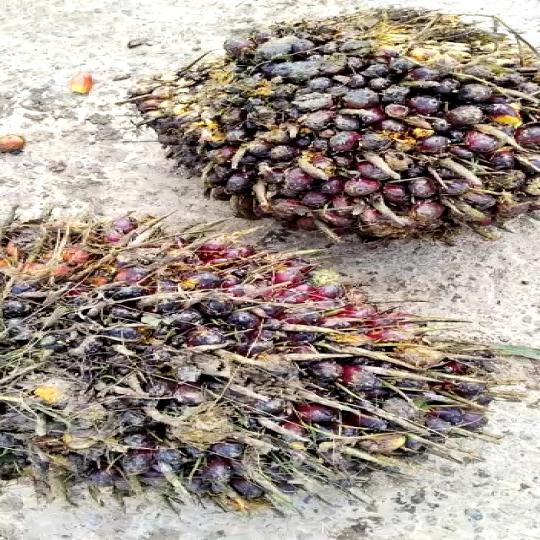kurang masak: (0, 208, 540, 509), (104, 4, 540, 258)
